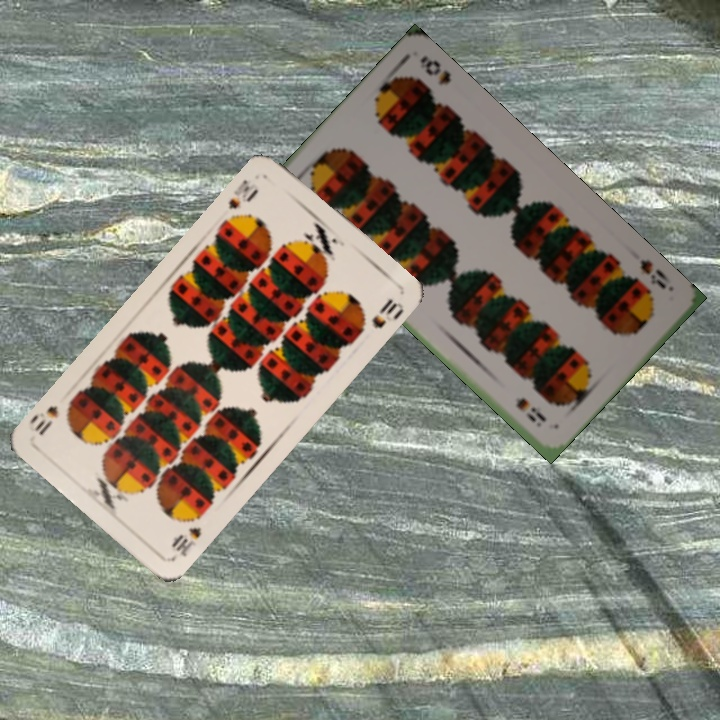S10: (224, 175, 262, 213), (167, 522, 204, 560)
S8: (636, 255, 669, 292)
